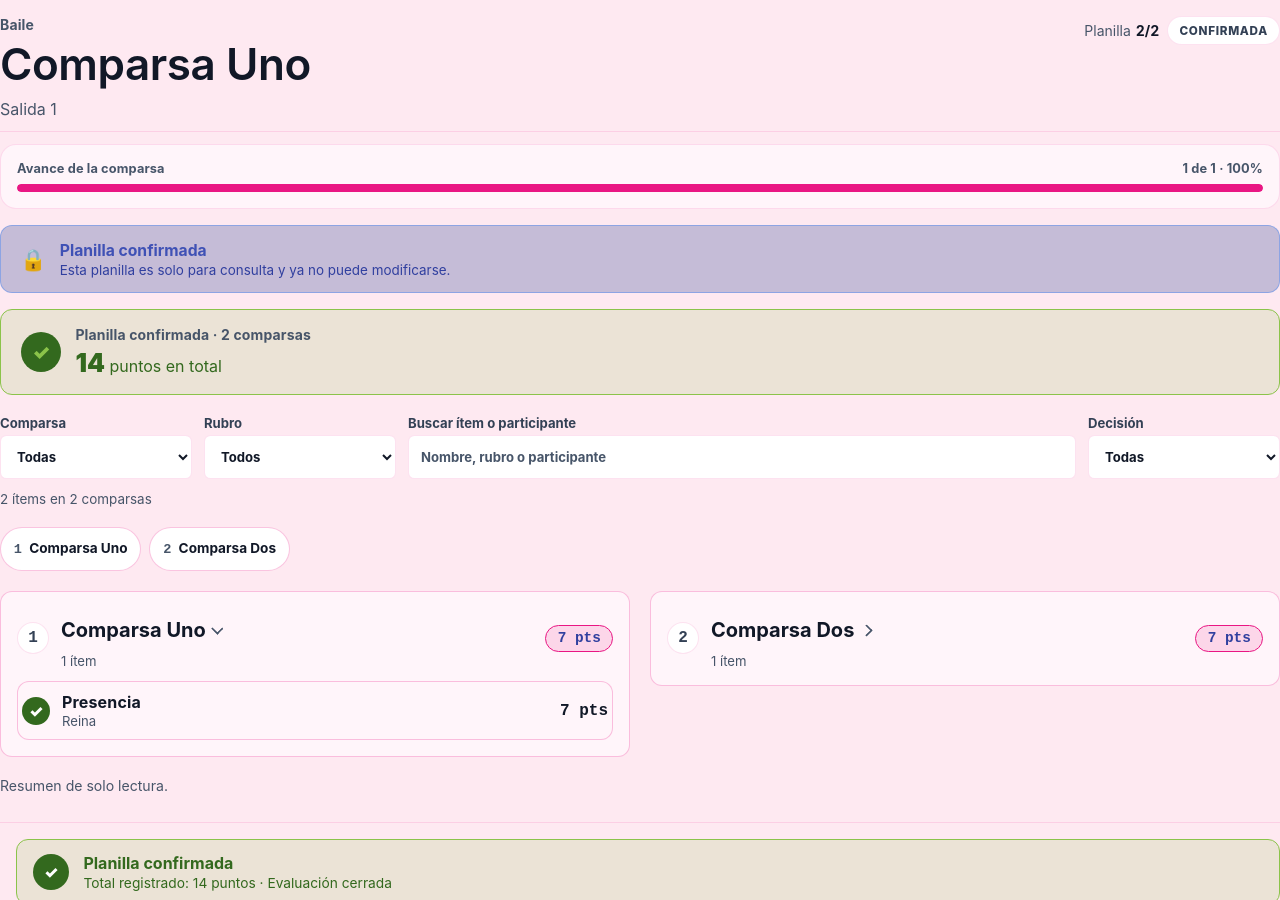
Scenario: JudgeBallotPage › las tarjetas de la planilla confirmada son desplegables y arrancan con poco ruido
Expected: the element named "Resumen de la planilla" is shown, [0, 309, 1279, 798]
Expected: the button with aria-label "Ampliar votaciones de Comparsa Dos" is shown, [705, 608, 877, 652]
# Colapsar la primera y ampliar la segunda.
Click the button with aria-label "Ocultar votaciones de Comparsa Uno" at (141, 630), box [55, 608, 228, 652]
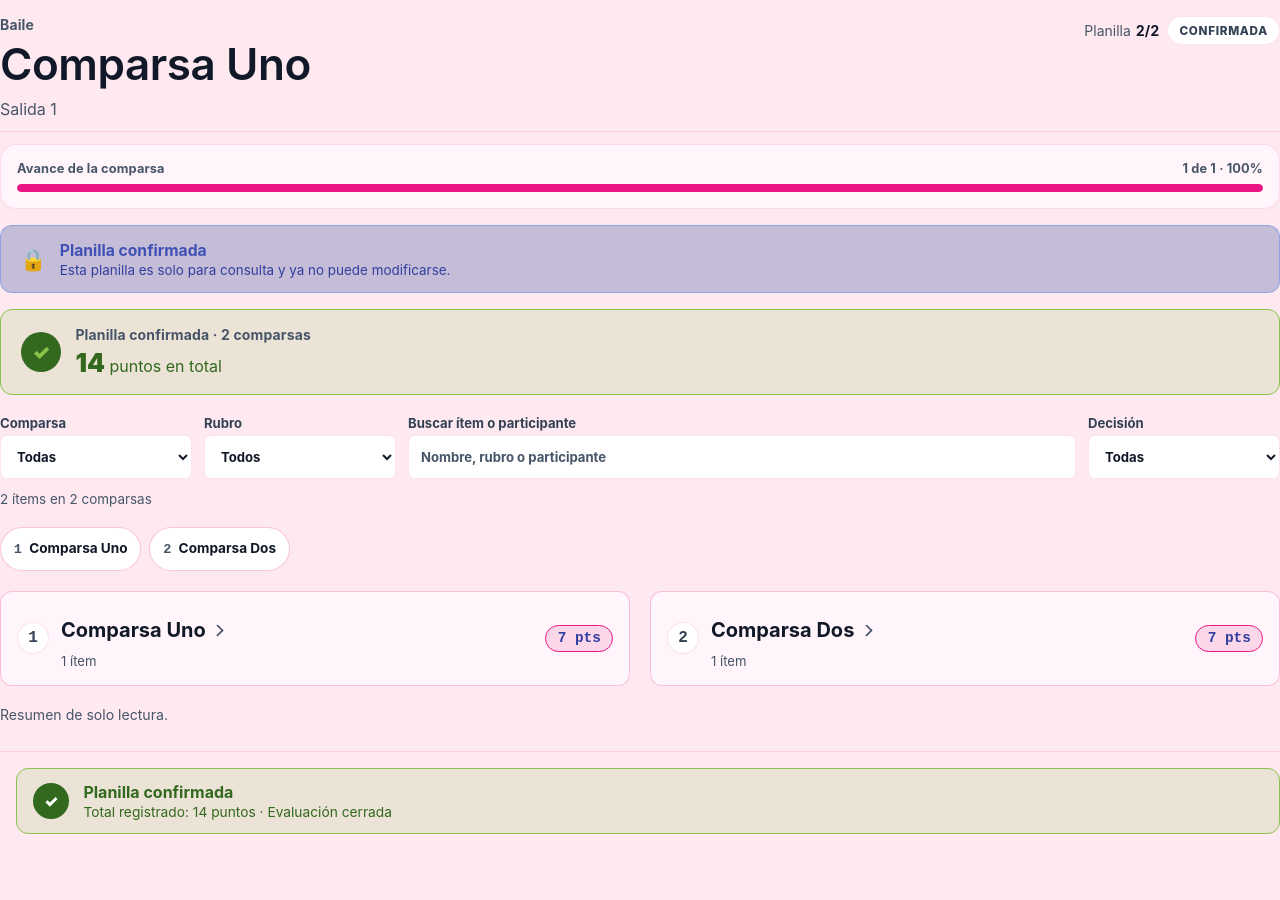
Expected: the button with aria-label "Ampliar votaciones de Comparsa Uno" is shown, [55, 608, 228, 652]
Click the button with aria-label "Ampliar votaciones de Comparsa Dos" at (791, 630), box [705, 608, 877, 652]
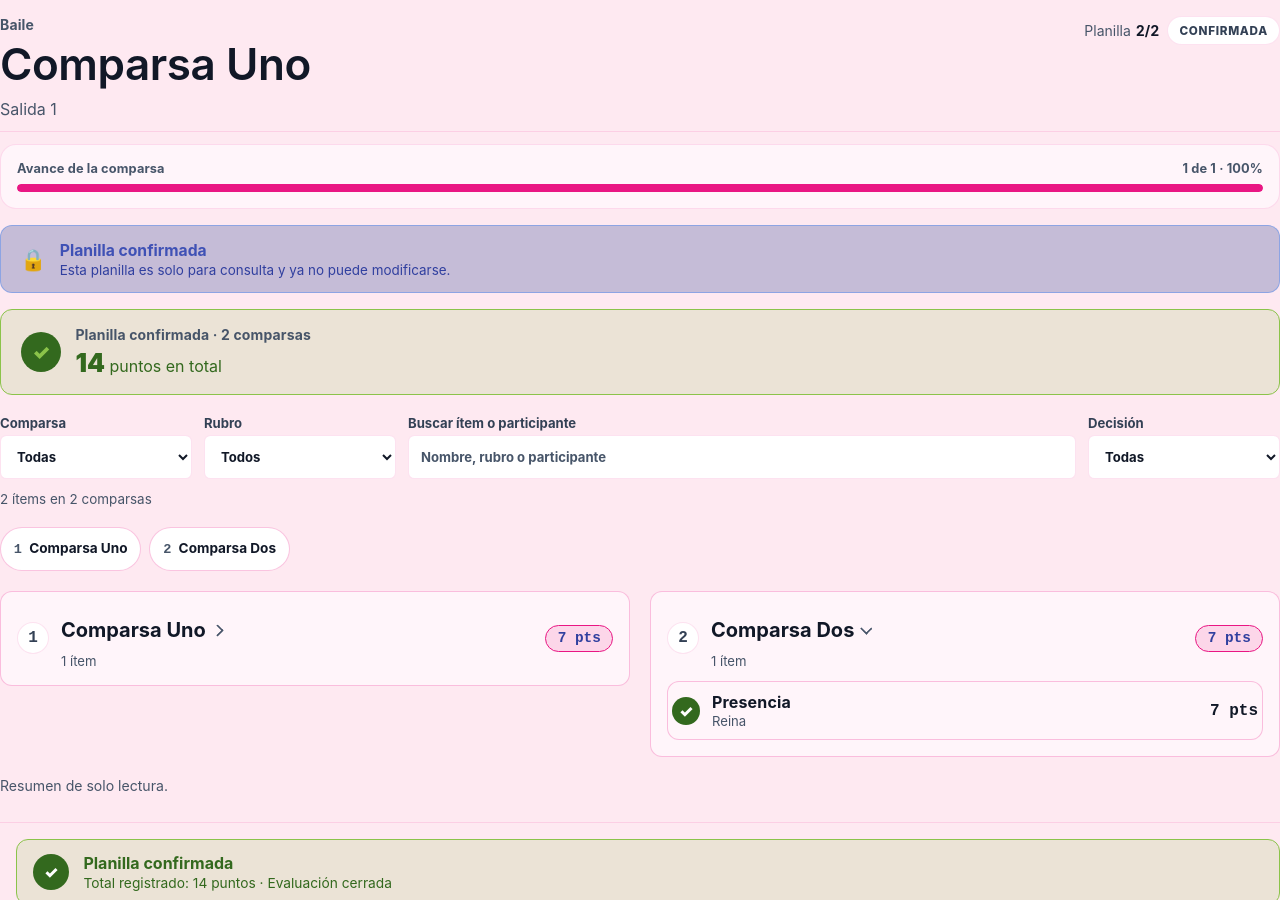
Expected: the button with aria-label "Ocultar votaciones de Comparsa Dos" is shown, [705, 608, 877, 652]
